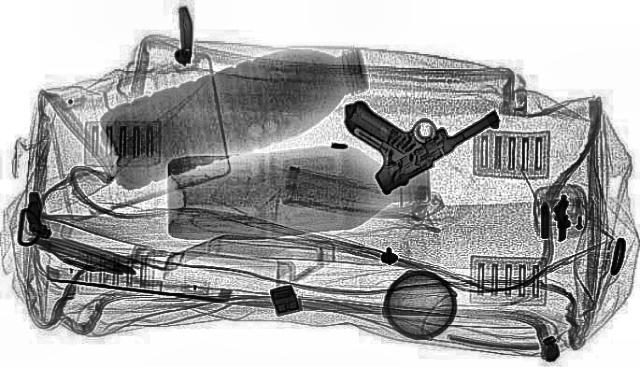Gun: (302, 90, 502, 202)
